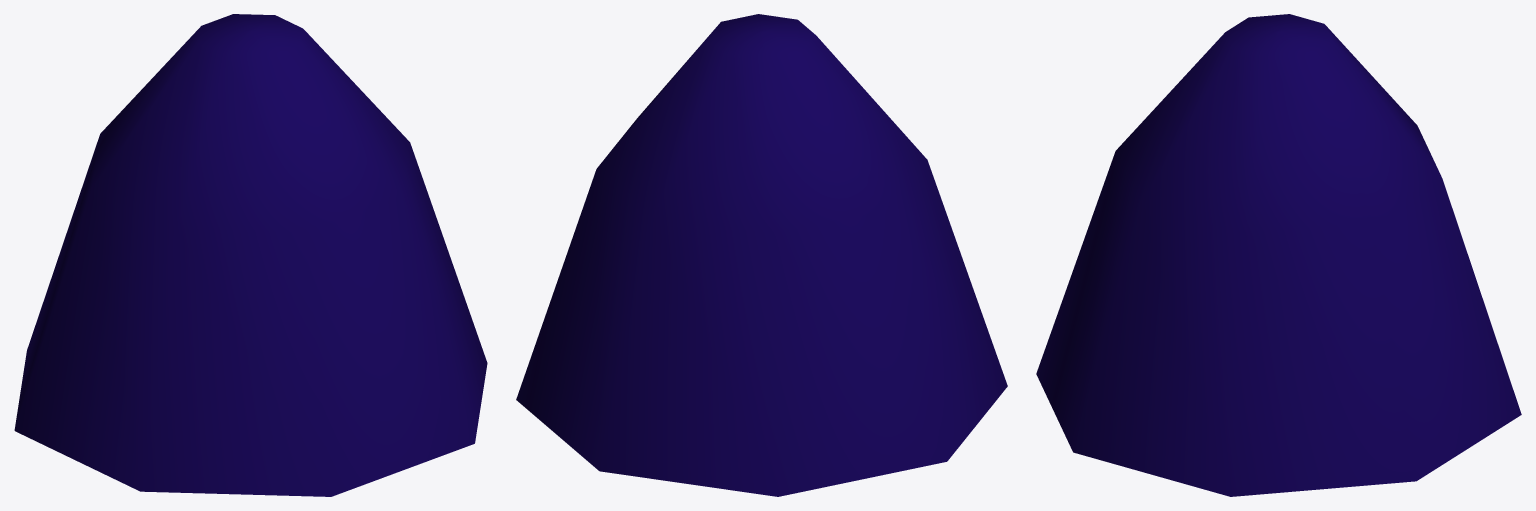
File: Bullet_LOD0.FBX
3 renders of one model, left to right at view 1: azimuth 30°, elevation 25°; view 2: azimuth 150°, elevation 25°; view 3: azimuth 270°, elevation 25°, orthographic.
Parts seen in each view (by area): view 1: Bullet_LOD0; view 2: Bullet_LOD0; view 3: Bullet_LOD0.
Boxes of the visible parts, box(x1,y1,x2,y2) form: Bullet_LOD0: box(14, 14, 487, 496); Bullet_LOD0: box(516, 14, 1007, 496); Bullet_LOD0: box(1036, 14, 1521, 496).
Bounding box in the file's own units: 1.1 × 0.9118 × 1.1.
